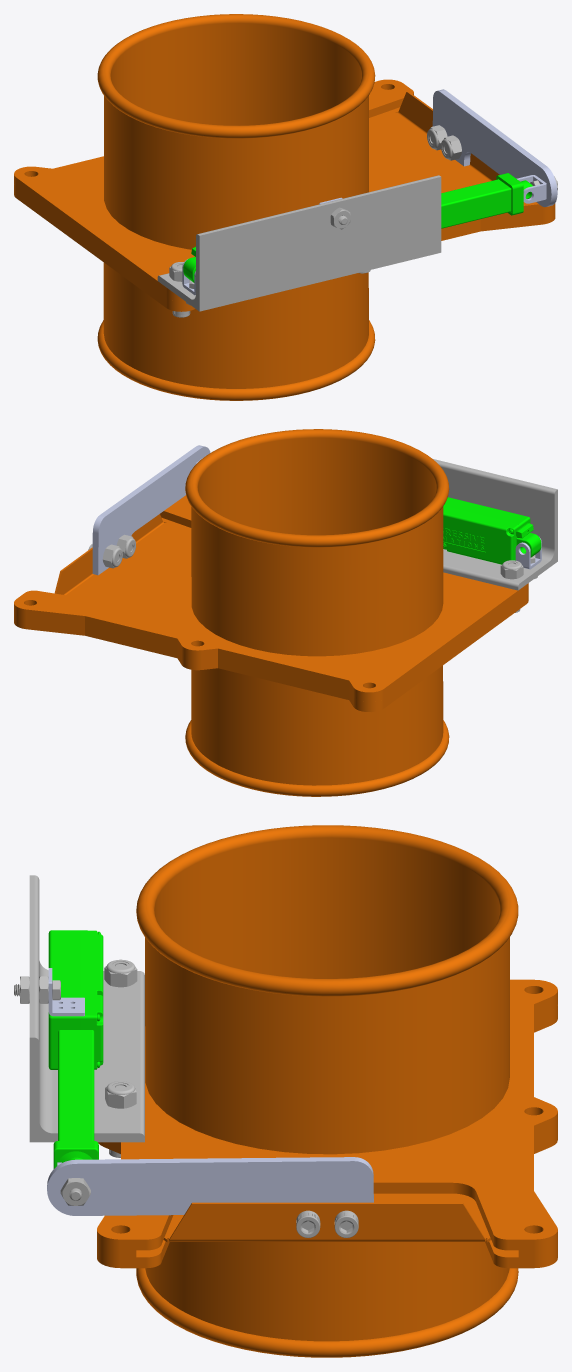
Rendered from blast-gate-assembly.glb.
3 renders of one model, top to bottom at view 1: azimuth 30°, elevation 25°; view 2: azimuth 150°, elevation 25°; view 3: azimuth 270°, elevation 25°, orthographic. The views are drawn at different scales.
Visible parts, largest first — view 1: Blast Gate Housing-1, Blast Gate Housing-2, 9017K481_Low-Carbon Steel 90 Degree Angle-1, Slide Window-1, Actuator Arm-1, PA-MC1-1-1, BRK-MC1U-2; view 2: Blast Gate Housing-1, Blast Gate Housing-2, 9017K481_Low-Carbon Steel 90 Degree Angle-1, Slide Window-1, PA-MC1-1, Actuator Arm-1; view 3: Blast Gate Housing-1, Blast Gate Housing-2, Actuator Arm-1, Slide Window-1, 9017K481_Low-Carbon Steel 90 Degree Angle-1, PA-MC1-1, PA-MC1-1-1, BRK-MC1L-1, 90631A011_Low-Strength Steel Nylon-Insert Locknut-1, 90631A011_Low-Strength Steel Nylon-Insert Locknut-2.
Boxes of the visible parts, x1,y1,x2,y2 form: Blast Gate Housing-1: [14, 14, 555, 301]; Blast Gate Housing-2: [14, 107, 555, 400]; 9017K481_Low-Carbon Steel 90 Degree Angle-1: [157, 175, 441, 311]; Slide Window-1: [369, 91, 499, 192]; Actuator Arm-1: [432, 89, 557, 207]; PA-MC1-1-1: [441, 173, 532, 228]; BRK-MC1U-2: [516, 175, 546, 203]; Blast Gate Housing-1: [14, 429, 528, 702]; Blast Gate Housing-2: [14, 518, 528, 796]; 9017K481_Low-Carbon Steel 90 Degree Angle-1: [432, 458, 557, 590]; Slide Window-1: [54, 514, 191, 601]; PA-MC1-1: [443, 497, 541, 564]; Actuator Arm-1: [92, 445, 210, 575]; Blast Gate Housing-1: [97, 825, 557, 1253]; Blast Gate Housing-2: [97, 1005, 557, 1357]; Actuator Arm-1: [47, 1157, 373, 1215]; Slide Window-1: [163, 1193, 491, 1242]; 9017K481_Low-Carbon Steel 90 Degree Angle-1: [29, 875, 144, 1142]; PA-MC1-1: [48, 930, 103, 1069]; PA-MC1-1-1: [53, 1030, 98, 1168]; BRK-MC1L-1: [48, 968, 84, 1016]; 90631A011_Low-Strength Steel Nylon-Insert Locknut-1: [104, 959, 137, 987]; 90631A011_Low-Strength Steel Nylon-Insert Locknut-2: [105, 1081, 136, 1108].
Size of the model in its own units: 0.2032 by 0.1374 by 0.1798.
